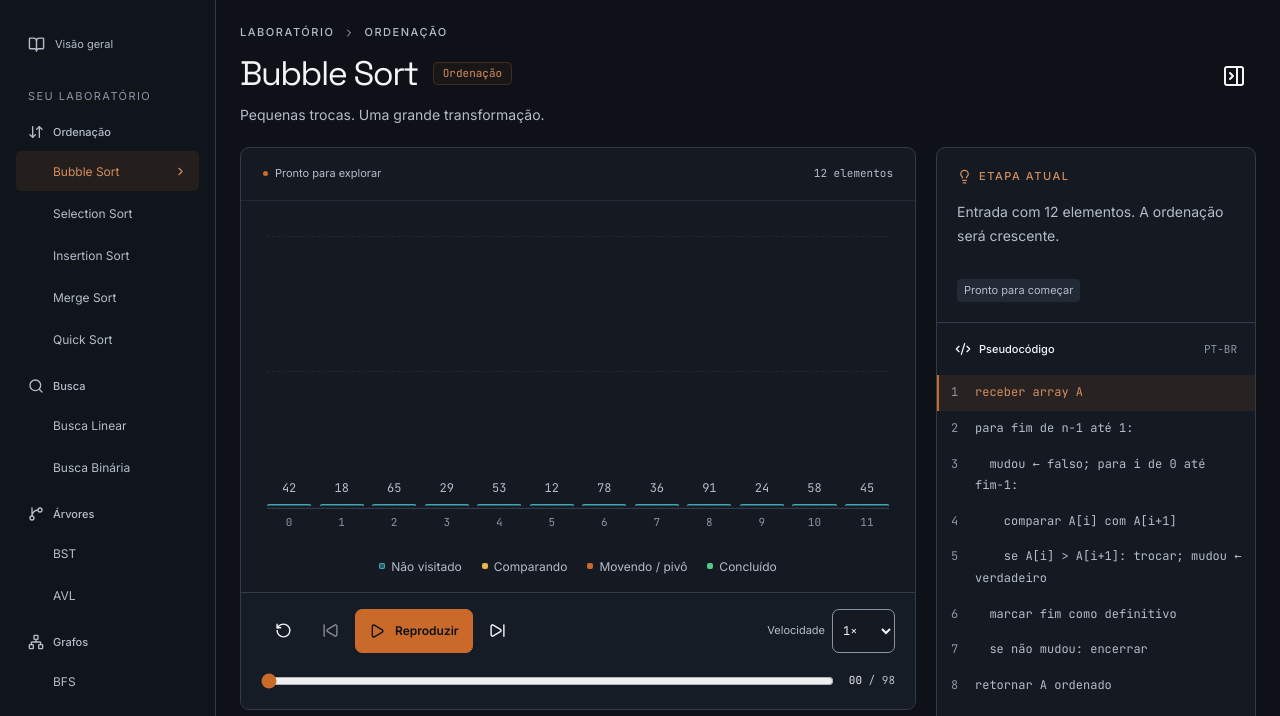
laboratório integrado › trocar algoritmo cancela execução e volta à etapa inicial
What coordinates should you click on to do the following:
click the button "Reproduzir"
I would click on:
 (414, 631)
Its box is [355,609,473,653].
Wait 650 ms
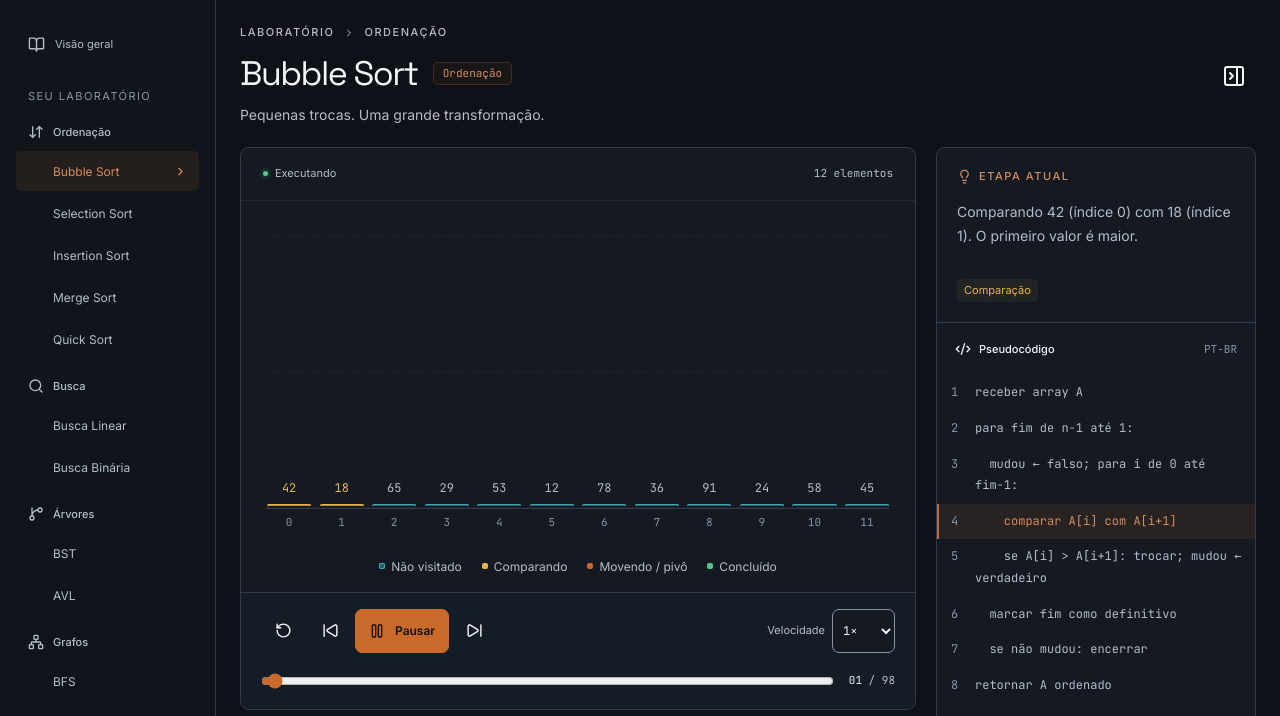
What coordinates should you click on to do the following:
click the link "Merge Sort"
I would click on:
 (85, 297)
Its box is [53,290,116,305].
Wait 3000 ms
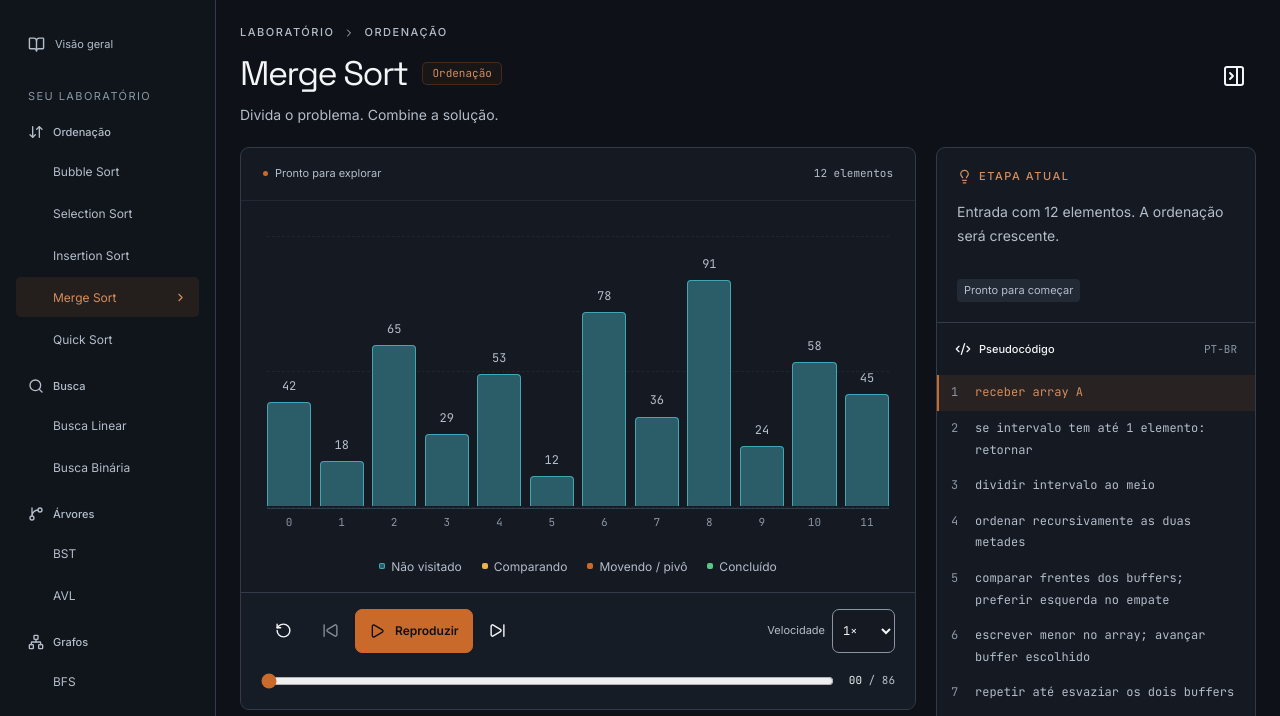
Result: the heading "Merge Sort Ordenação" is shown at [240,55,502,93]
Result: the slider named "Etapa da execução" holds "0" at [261,669,834,693]
Result: the button "Reproduzir" is shown at [355,609,473,653]
